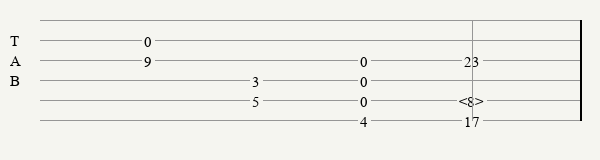0: (144, 33, 156, 47), (360, 53, 372, 67), (360, 93, 372, 107), (360, 73, 372, 87)
17: (464, 113, 484, 127)
23: (464, 53, 484, 67)
3: (252, 73, 264, 87)
4: (360, 113, 372, 127)
5: (252, 93, 264, 107)
9: (144, 53, 156, 67)
harmonic: (459, 93, 488, 107)
